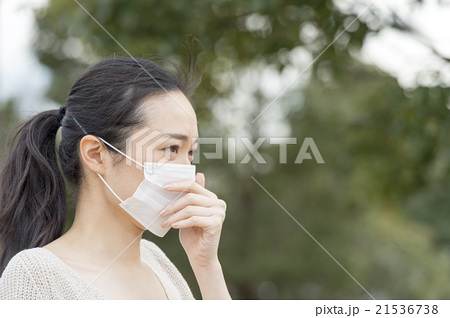mask: (132, 170, 212, 238)
